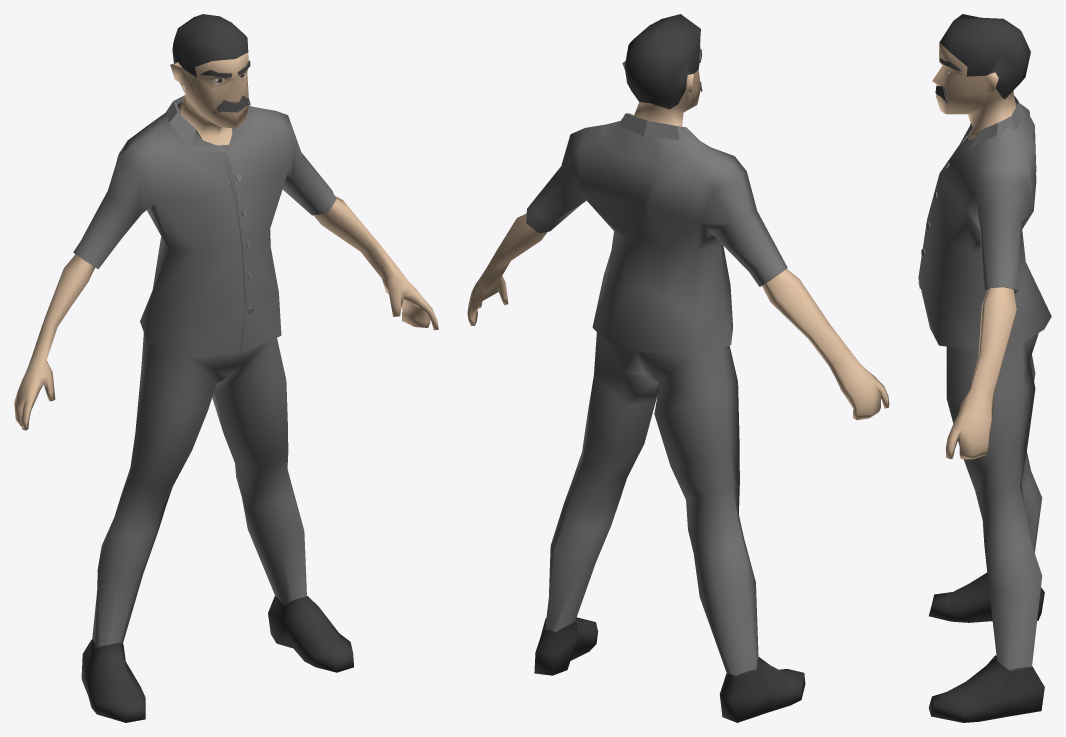
File: Counsellor_rich_run.fbx
3 renders of one model, left to right at view 1: azimuth 30°, elevation 25°; view 2: azimuth 150°, elevation 25°; view 3: azimuth 270°, elevation 25°, orthographic. The views are drawn at different scales.
Visible parts, largest first — view 1: polySurface11, polySurface4, polySurface12, polySurface14; view 2: polySurface11, polySurface4, polySurface14, polySurface12; view 3: polySurface11, polySurface4, polySurface12, polySurface14, polySurface8.
Part boxes in pixels (x1,y1,x2,y2): polySurface11: (73,14,336,357); polySurface4: (92,297,306,648); polySurface12: (81,596,353,722); polySurface14: (14,196,438,430); polySurface11: (526,14,787,354); polySurface4: (545,332,758,676); polySurface14: (467,213,889,420); polySurface12: (534,617,805,722); polySurface11: (918,14,1051,350); polySurface4: (946,333,1042,670); polySurface12: (928,572,1044,722); polySurface14: (946,287,1017,459); polySurface8: (935,57,961,103).
Bounding box in the file's own units: 11.68 × 17.65 × 3.32.
